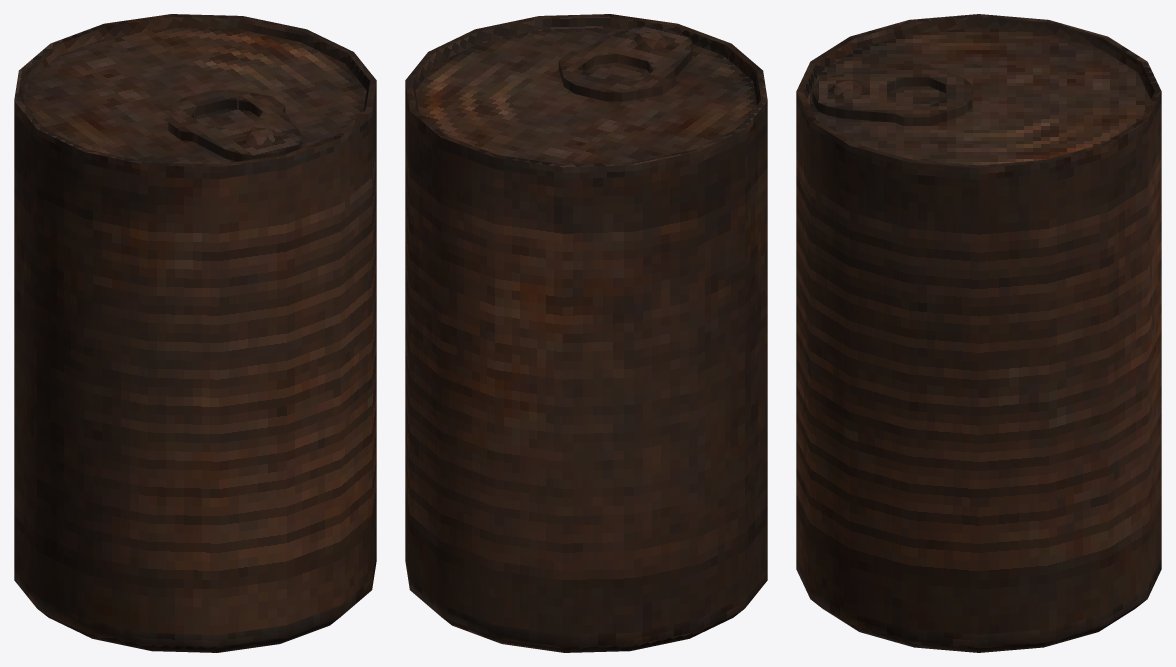
File: canned_food_mp_5_rusty.glb
3 renders of one model, left to right at view 1: azimuth 30°, elevation 25°; view 2: azimuth 150°, elevation 25°; view 3: azimuth 270°, elevation 25°, orthographic.
Parts seen in each view (by area): view 1: canned_food_mp_5_rusty; view 2: canned_food_mp_5_rusty; view 3: canned_food_mp_5_rusty.
Boxes of the visible parts, x1,y1,x2,y2 form: canned_food_mp_5_rusty: [14, 14, 376, 652]; canned_food_mp_5_rusty: [405, 14, 767, 652]; canned_food_mp_5_rusty: [796, 14, 1161, 652].
Size of the model in its own units: 0.112 by 0.168 by 0.112.
1 material, 1 textured.
